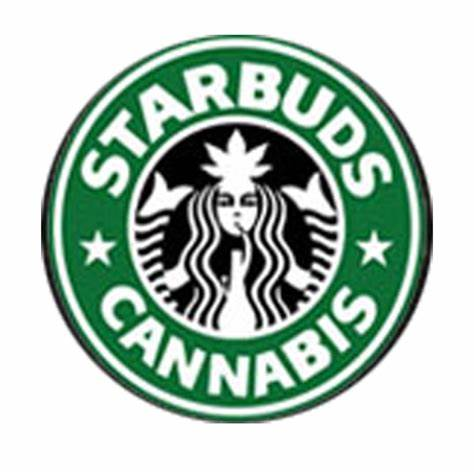starbucks Fake: (35, 31, 439, 425)
